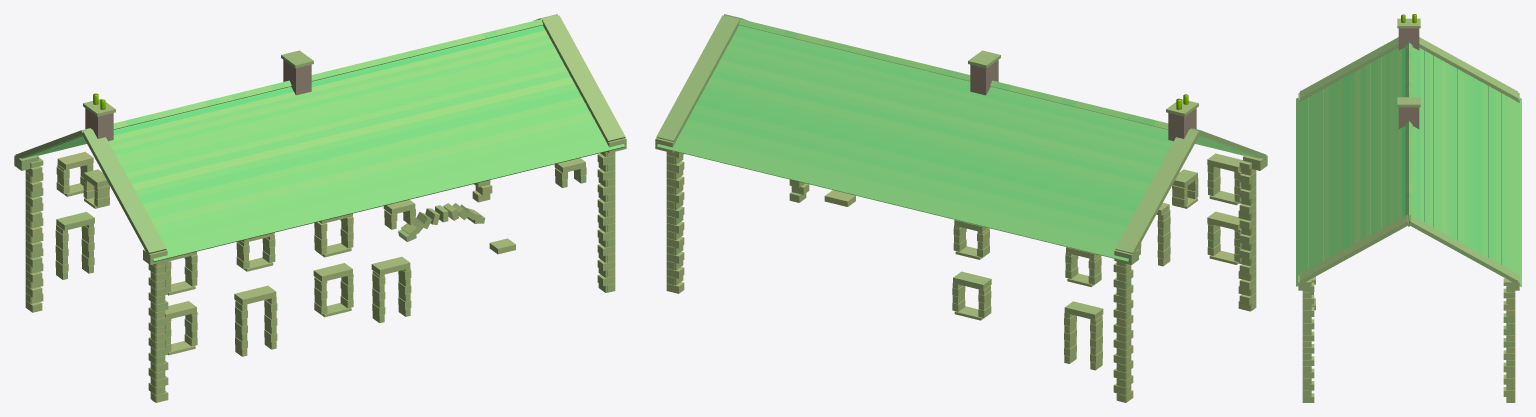
Rendered from SM_Bld_118_Stone.glb.
3 views of the same model, side by side, from view 1: azimuth 30°, elevation 25°; view 2: azimuth 150°, elevation 25°; view 3: azimuth 270°, elevation 25° (orthographic). The views are drawn at different scales.
Parts seen in each view (by area): view 1: SM_Bld_118_Stone; view 2: SM_Bld_118_Stone; view 3: SM_Bld_118_Stone.
Part boxes in pixels (x1,y1,x2,y2): SM_Bld_118_Stone: (14,14,626,402); SM_Bld_118_Stone: (655,14,1267,402); SM_Bld_118_Stone: (1296,14,1521,402).
Bounding box in the file's own units: 19.82 × 10.17 × 9.98.
